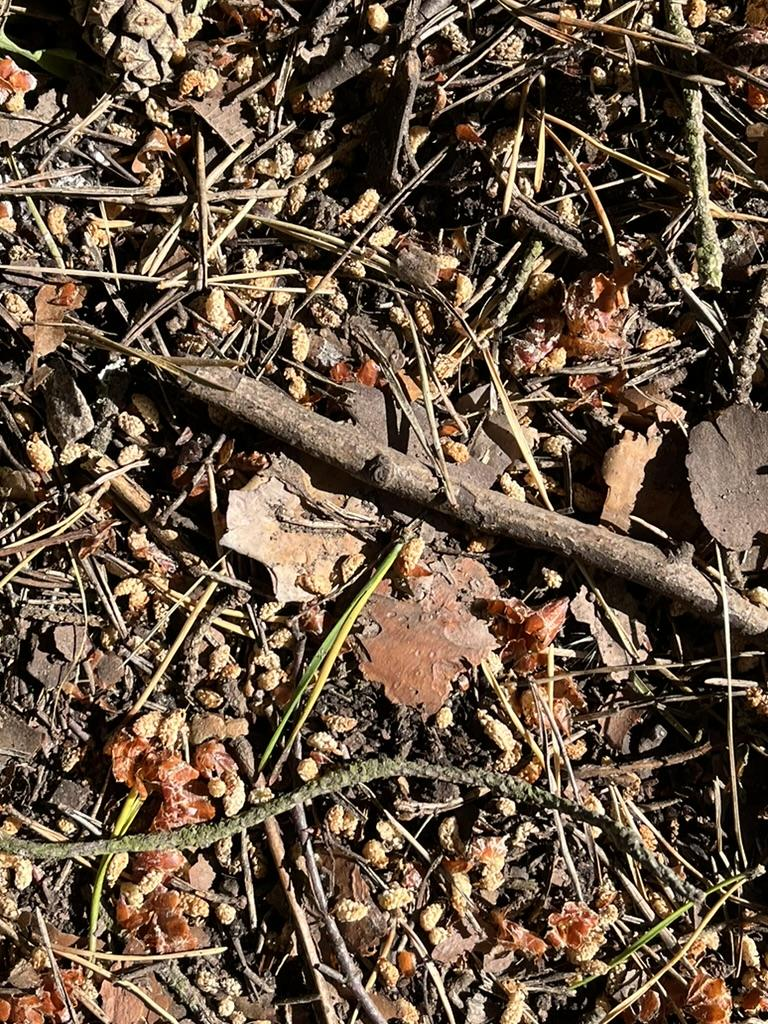pine: (41, 0, 216, 113)
